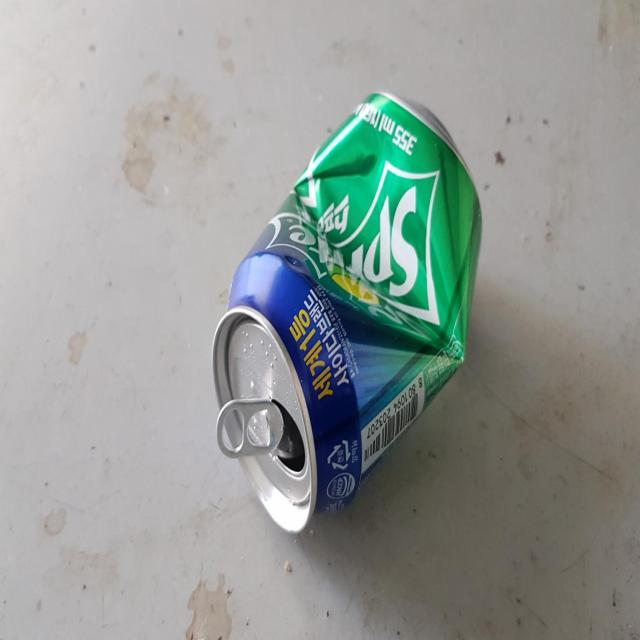can: (213, 92, 482, 532)
